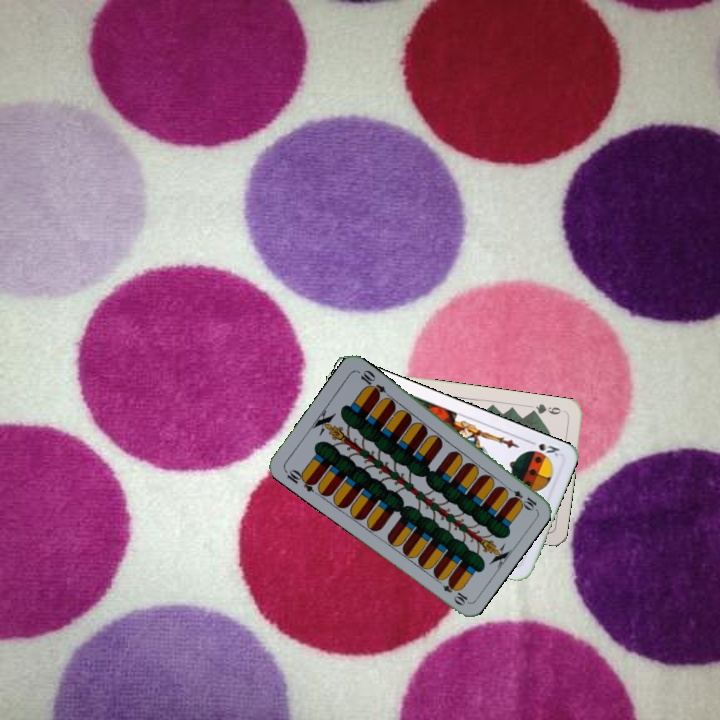E10: (281, 465, 319, 495), (502, 482, 539, 512)
G9: (527, 400, 568, 417)
SK: (524, 436, 563, 459)
